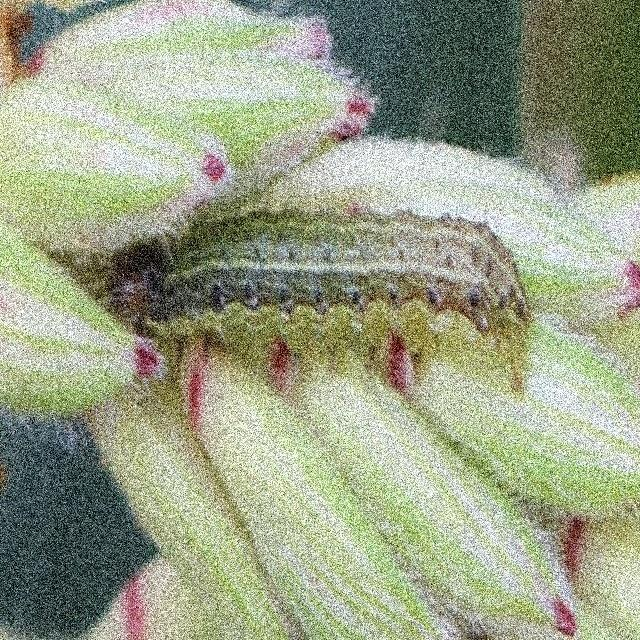Plaga: (188, 206, 528, 344)
